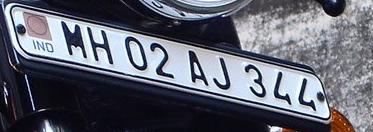0: (121, 33, 149, 70)
2: (147, 39, 175, 78)
3: (241, 61, 267, 98)
4: (271, 67, 292, 106), (296, 76, 316, 111)
A: (185, 47, 209, 87)
H: (85, 22, 116, 64)
J: (209, 53, 232, 91)
M: (56, 17, 90, 58)
